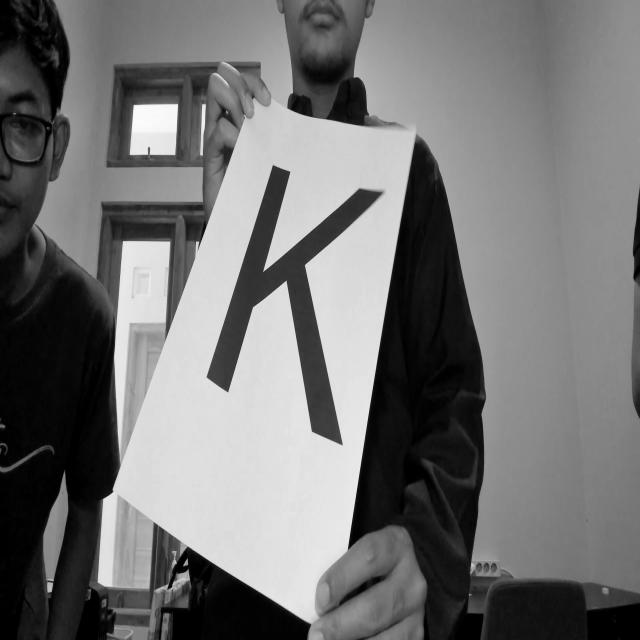k: (200, 141, 384, 462)
